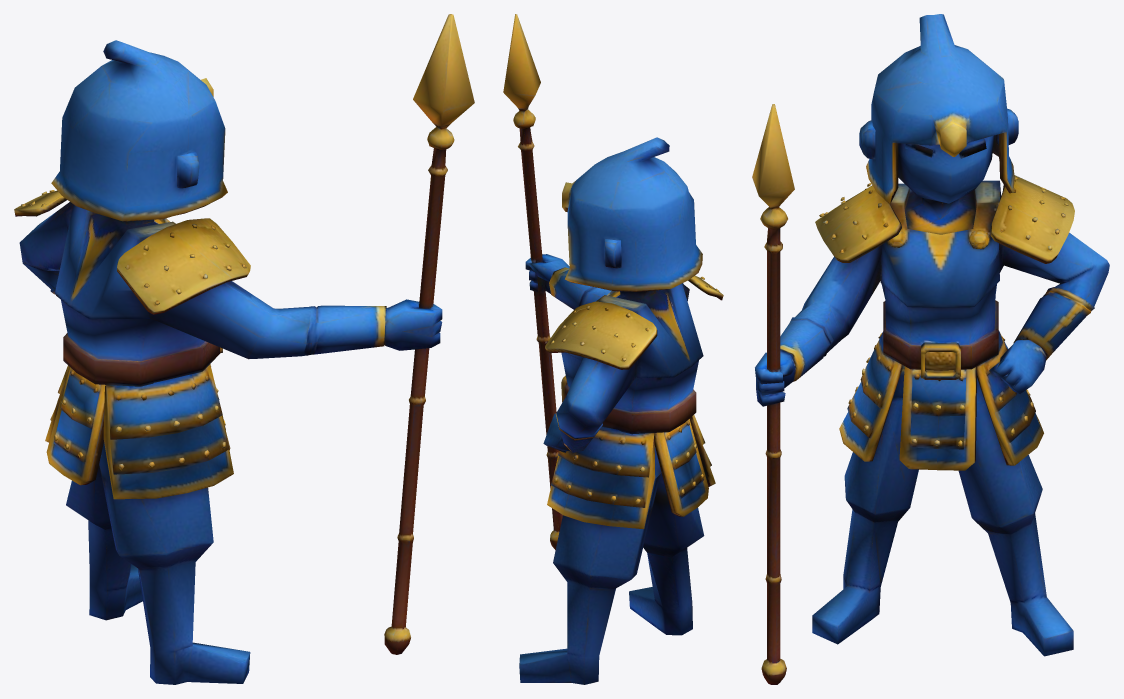
File: kid-warrior.glb
The picture shows the model from 3 angles, left to right: view 1: azimuth 30°, elevation 25°; view 2: azimuth 150°, elevation 25°; view 3: azimuth 270°, elevation 25°; orthographic projection. The views are drawn at different scales.
Parts seen in each view (by area): view 1: tripo_node_083b5fbe-e907-4601-8b69-1d6d7ce4c333; view 2: tripo_node_083b5fbe-e907-4601-8b69-1d6d7ce4c333; view 3: tripo_node_083b5fbe-e907-4601-8b69-1d6d7ce4c333.
Boxes of the visible parts, x1,y1,x2,y2 form: tripo_node_083b5fbe-e907-4601-8b69-1d6d7ce4c333: (14, 14, 474, 684); tripo_node_083b5fbe-e907-4601-8b69-1d6d7ce4c333: (503, 14, 723, 684); tripo_node_083b5fbe-e907-4601-8b69-1d6d7ce4c333: (752, 14, 1109, 684).
Size of the model in its own units: 0.5176 by 0.998 by 0.5215.
1 material, 1 textured.
